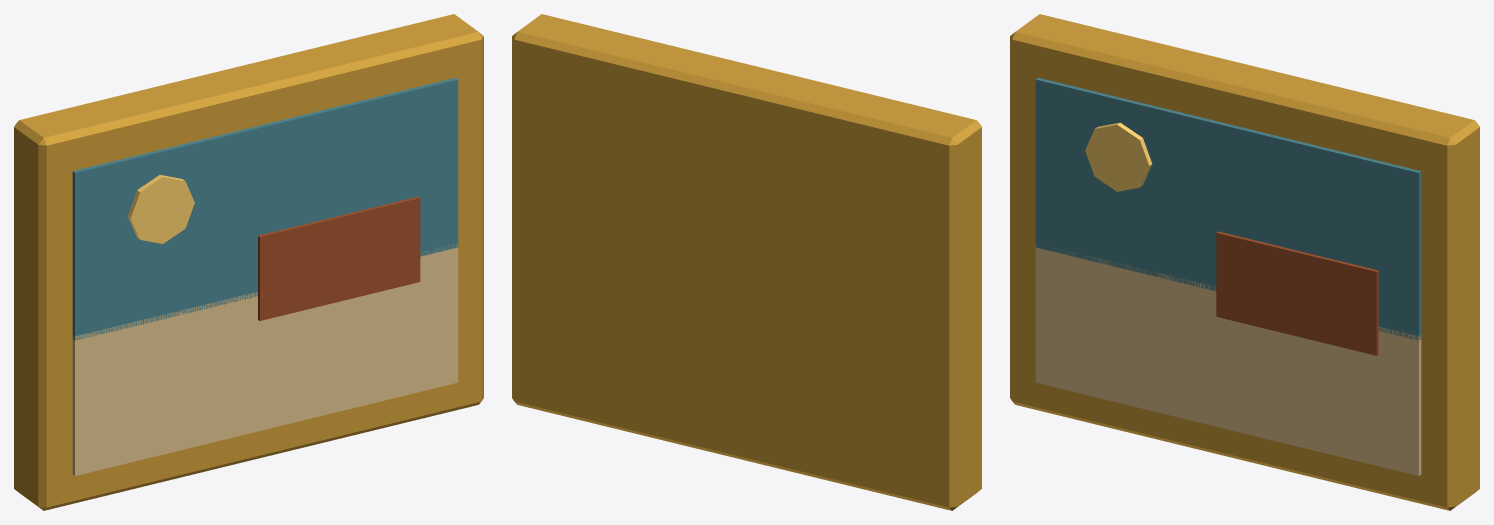
File: Painting.fbx
3 views of the same model, side by side, from view 1: azimuth 30°, elevation 25°; view 2: azimuth 150°, elevation 25°; view 3: azimuth 330°, elevation 25° (orthographic).
Visible parts, largest first — view 1: Painting; view 2: Painting; view 3: Painting.
Part boxes in pixels (box(x1,y1,x2,y2)): Painting: box(14, 14, 483, 510); Painting: box(512, 14, 981, 510); Painting: box(1010, 14, 1479, 510).
Bounding box in the file's own units: 2.5 × 2 × 0.35.
